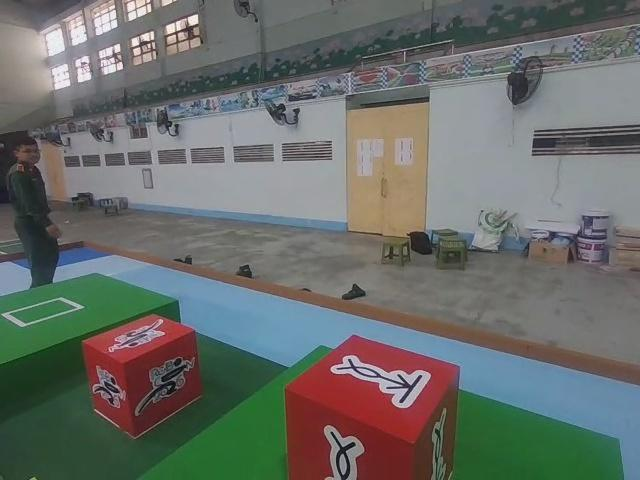R1: (83, 313, 205, 438)
R2 Real: (284, 333, 461, 480)
